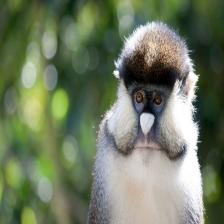monkey: (92, 20, 204, 224)
